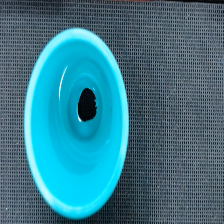hole: (77, 87, 97, 121)
